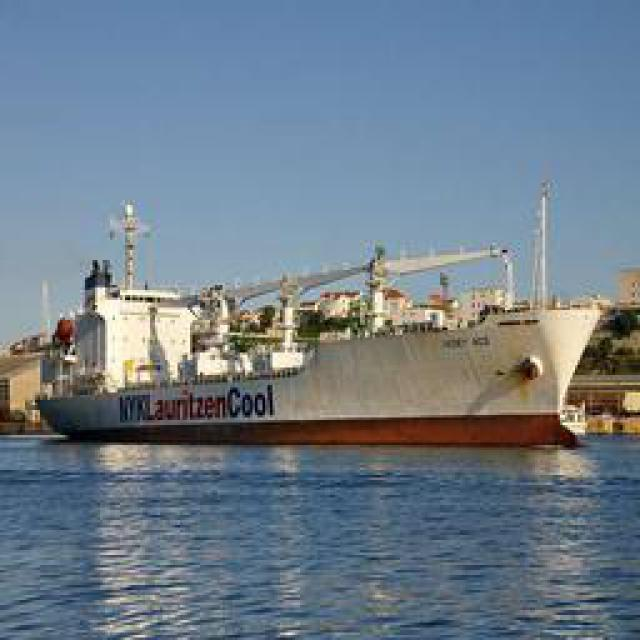Ship: (28, 190, 603, 450)
